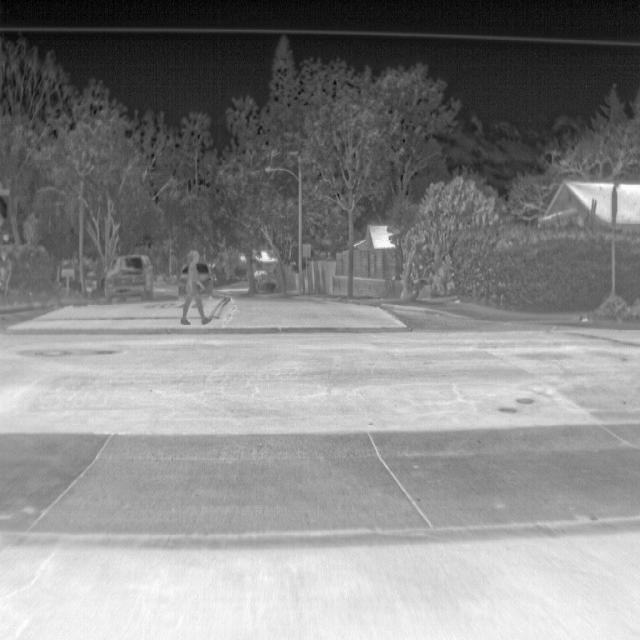Pedestrian: (178, 250, 211, 326)
Vehicle: (102, 253, 155, 305)
